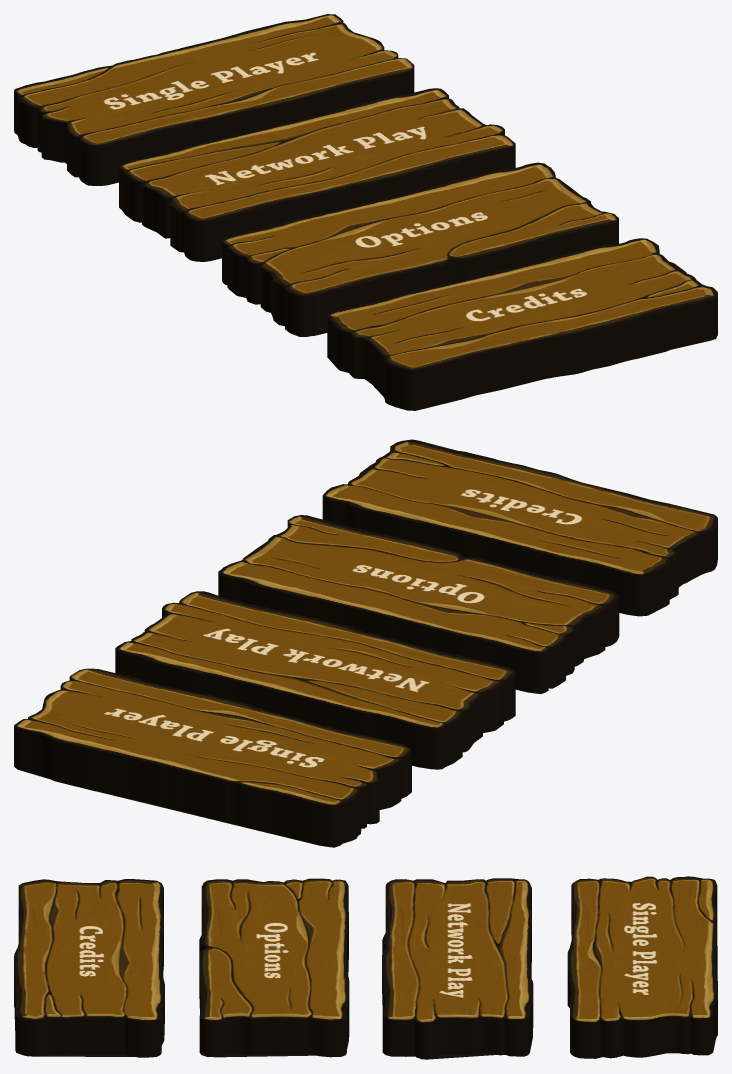
File: mainmenumodels.fbx
3 views of the same model, one above another, from view 1: azimuth 30°, elevation 25°; view 2: azimuth 150°, elevation 25°; view 3: azimuth 270°, elevation 25° (orthographic). The views are drawn at different scales.
Parts seen in each view (by area): view 1: credits, singleplayer, options, networkplay; view 2: singleplayer, networkplay, options, credits; view 3: networkplay, options, singleplayer, credits.
Part boxes in pixels (left/top/right/bottom): credits: left=327, top=238, right=717, bottom=410; singleplayer: left=14, top=14, right=414, bottom=185; options: left=222, top=162, right=618, bottom=336; networkplay: left=119, top=88, right=515, bottom=261; singleplayer: left=14, top=668, right=411, bottom=847; networkplay: left=115, top=591, right=515, bottom=769; options: left=218, top=515, right=619, bottom=694; credits: left=322, top=439, right=717, bottom=616; networkplay: left=382, top=878, right=533, bottom=1059; options: left=199, top=878, right=349, bottom=1057; singleplayer: left=567, top=876, right=717, bottom=1058; credits: left=14, top=879, right=164, bottom=1057.
Size of the model in its own units: 434 by 50 by 880.
5 materials, 4 textured.
